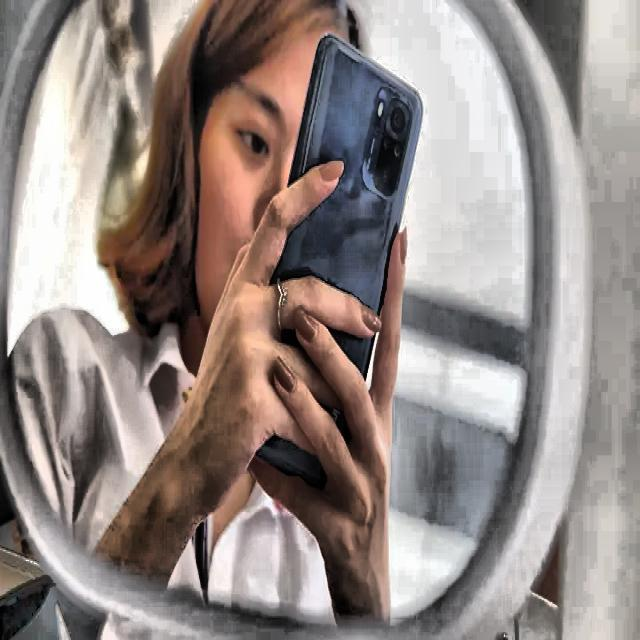Phone: (250, 27, 426, 497)
